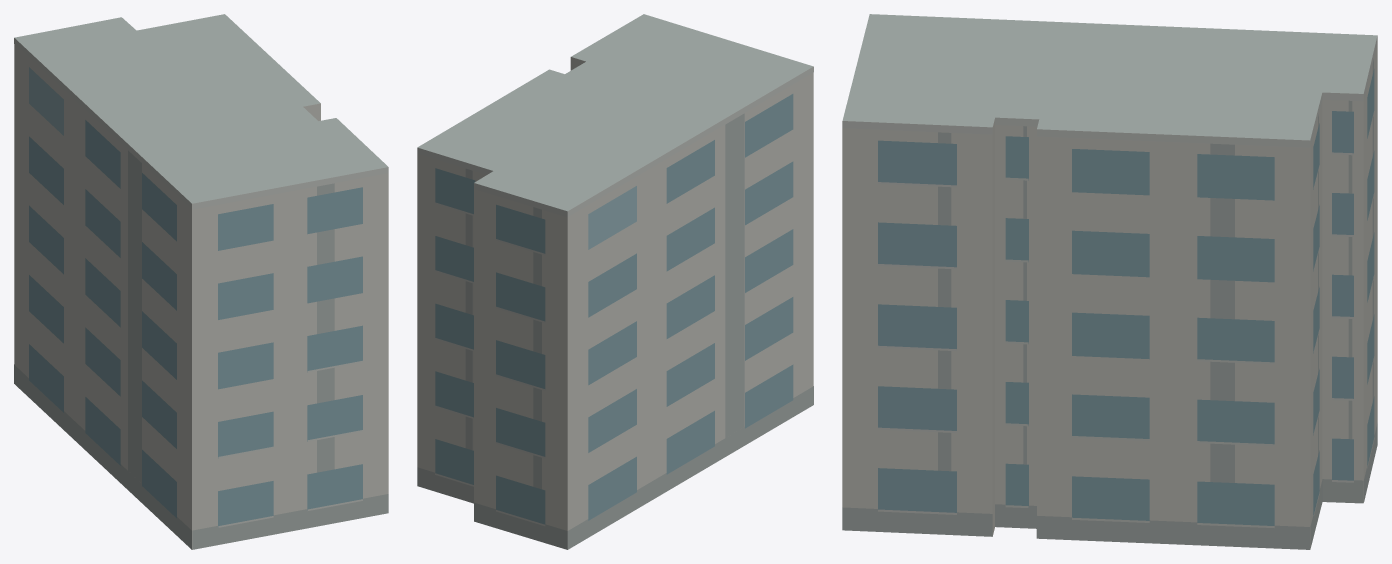
Rendered from survey-upis-32565260.glb.
3 views of the same model, side by side, from view 1: azimuth 30°, elevation 25°; view 2: azimuth 150°, elevation 25°; view 3: azimuth 270°, elevation 25° (orthographic). The views are drawn at different scales.
Visible parts, largest first — view 1: survey-upis-32565260.tmp; view 2: survey-upis-32565260.tmp; view 3: survey-upis-32565260.tmp.
Boxes of the visible parts, x1,y1,x2,y2 form: survey-upis-32565260.tmp: (14, 14, 388, 549); survey-upis-32565260.tmp: (417, 14, 813, 549); survey-upis-32565260.tmp: (842, 14, 1377, 549).
Bounding box in the file's own units: 9.02 × 13.6 × 16.12.
